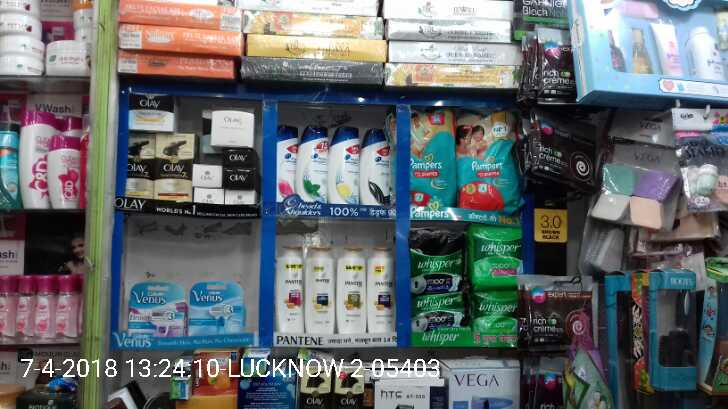venus: (187, 281, 247, 338), (132, 280, 187, 338)
